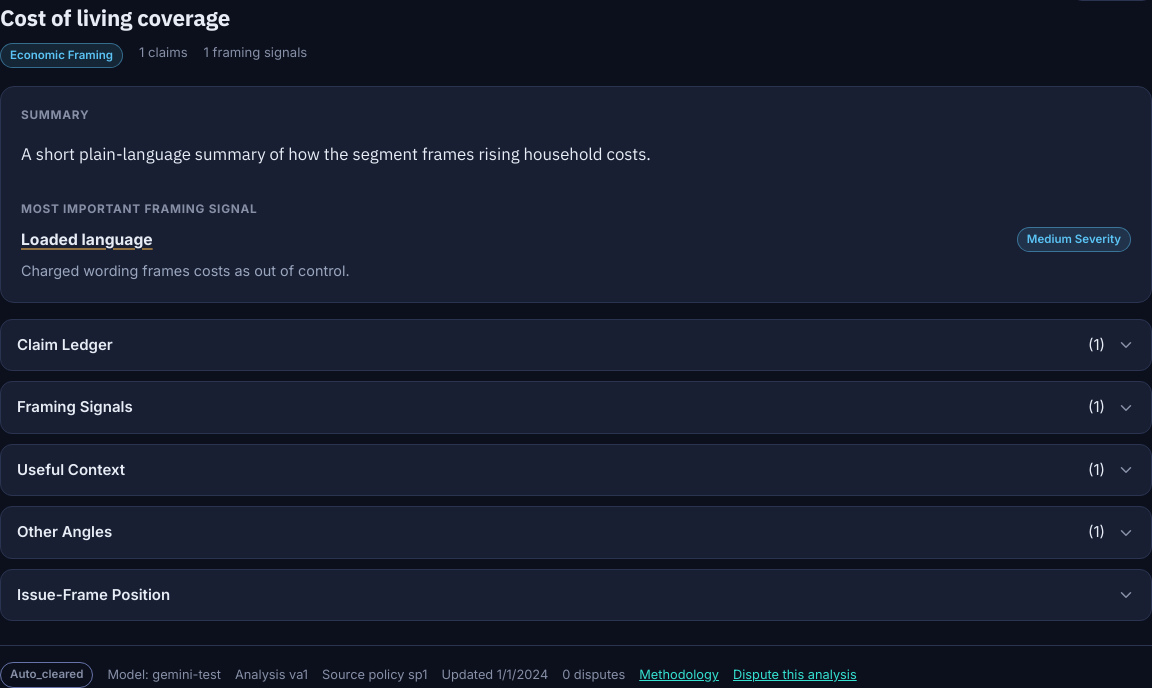
dispute modal focus trap + restore (Req 7.4, 7.5) › restores focus to the opener button when the modal closes (Req 7.5)
The width and height of the screenshot is (1152, 688).
Click the button "Dispute this analysis". click: (795, 675)
box: left=733, top=665, right=857, bottom=684
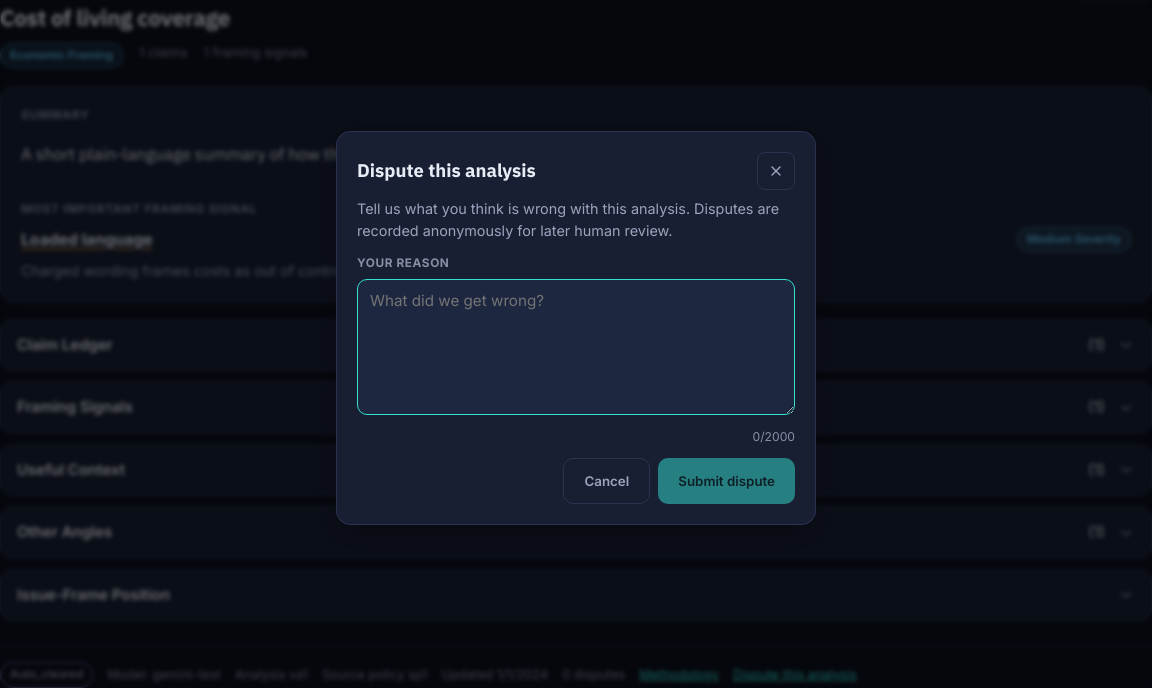
Result: the dialog is shown at left=336, top=131, right=816, bottom=525
Press Escape
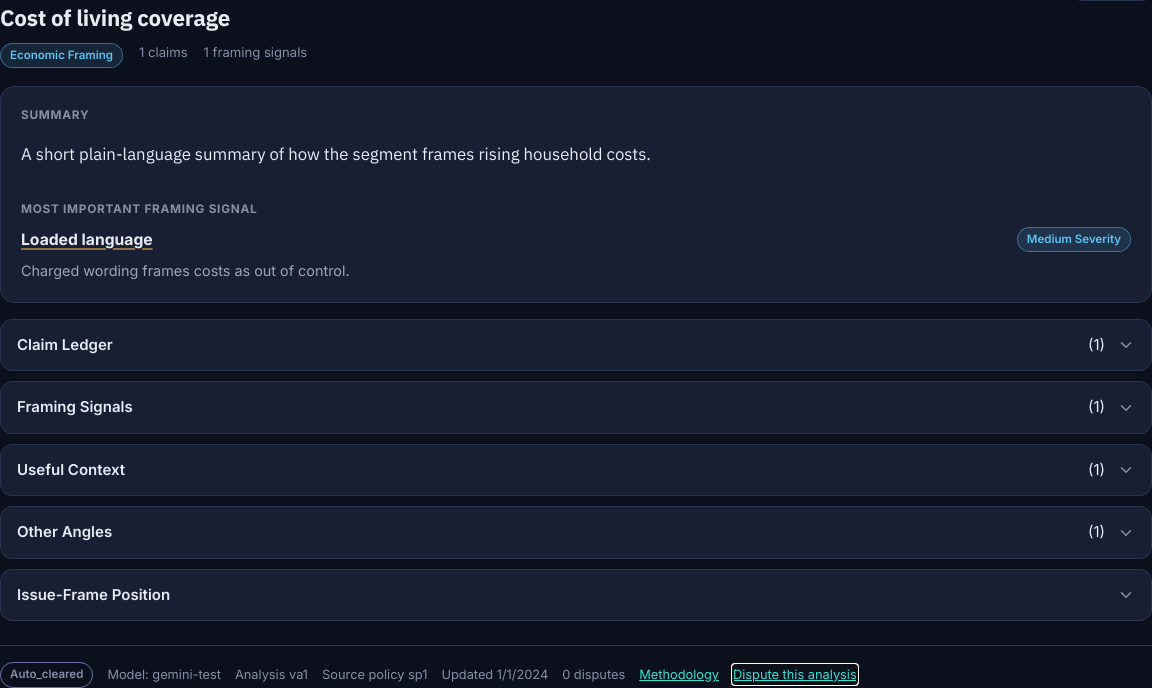
Result: the dialog is gone
